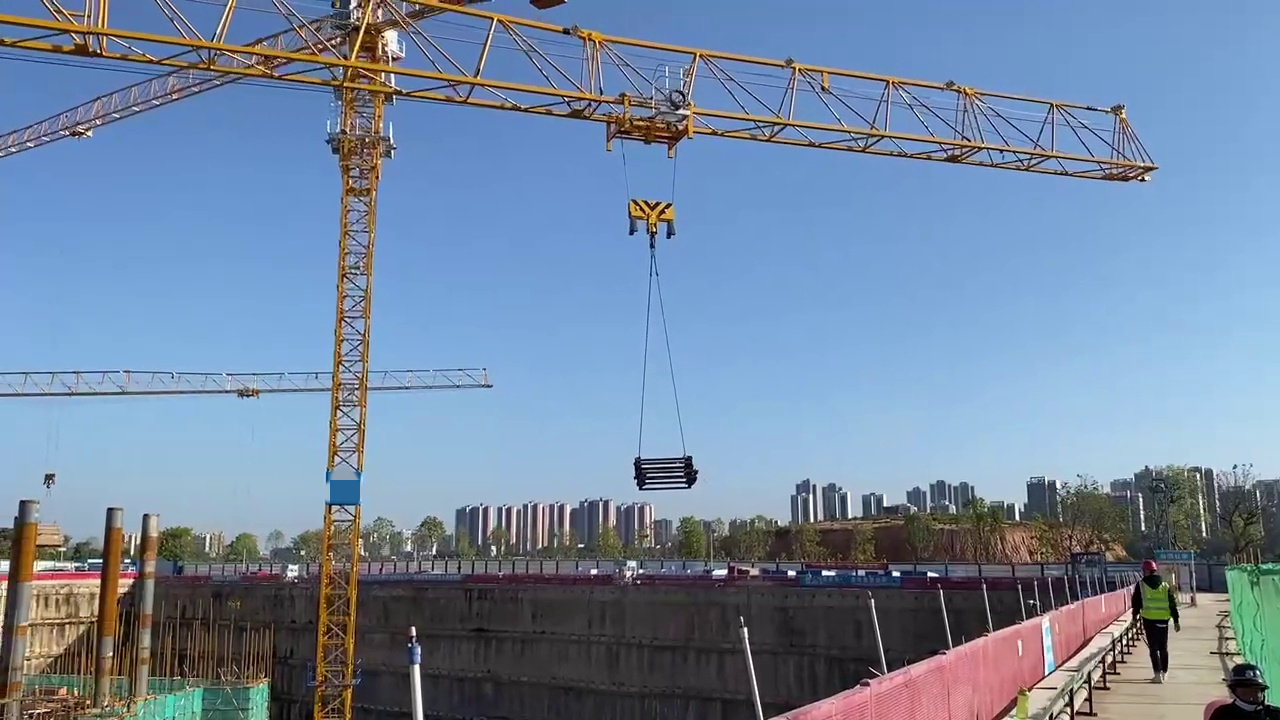fence: (767, 621, 1026, 720), (1034, 584, 1130, 684)
helmet: (1224, 664, 1269, 688), (1140, 560, 1158, 570)
hook: (628, 199, 679, 235)
person: (1134, 557, 1176, 683), (1201, 662, 1280, 718)
vest: (1136, 577, 1170, 622)
